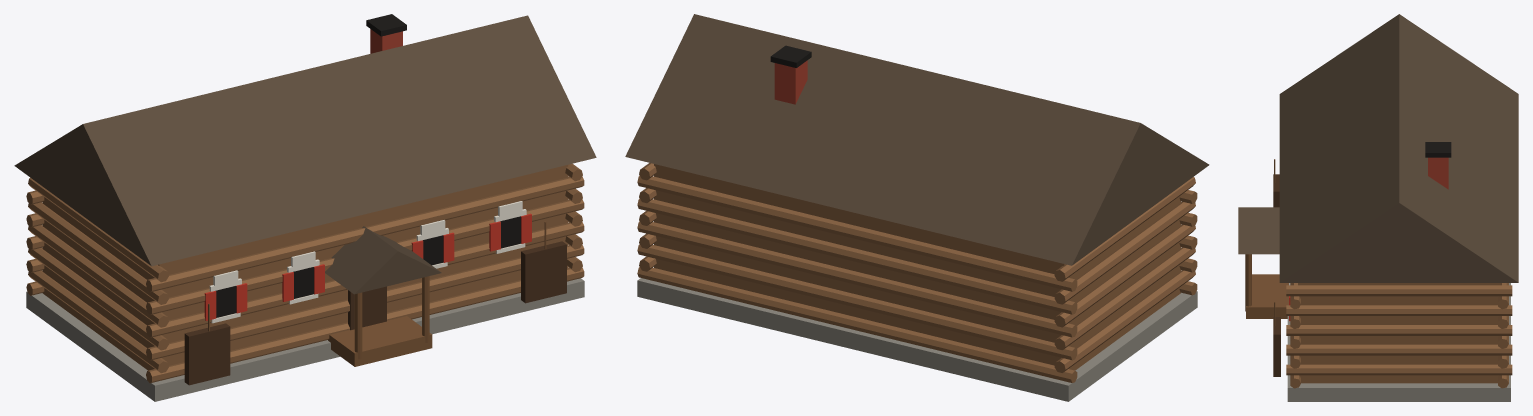
The model's file is barracks.glb.
3 views of the same model, side by side, from view 1: azimuth 30°, elevation 25°; view 2: azimuth 150°, elevation 25°; view 3: azimuth 270°, elevation 25° (orthographic). The views are drawn at different scales.
Visible parts, largest first — view 1: Barracks; view 2: Barracks; view 3: Barracks.
Part boxes in pixels (x1,y1,x2,y2): Barracks: [14, 14, 596, 401]; Barracks: [625, 14, 1209, 401]; Barracks: [1238, 14, 1518, 401].
Size of the model in its own units: 17.2 by 8.8 by 10.8.
